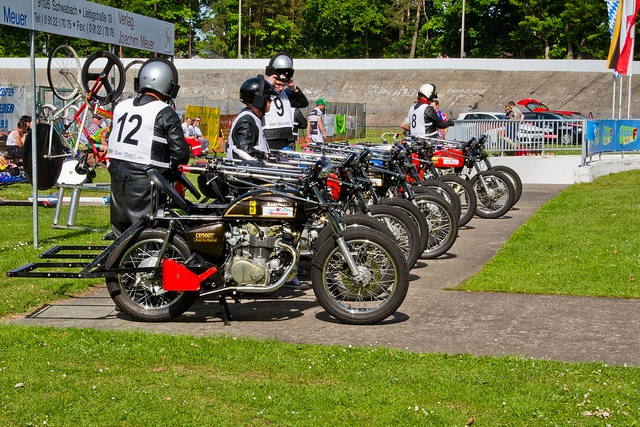non-vehicle: (101, 158, 415, 327), (321, 154, 423, 271), (370, 158, 457, 260), (351, 146, 429, 253), (370, 129, 461, 218), (404, 131, 480, 223), (437, 135, 512, 218), (328, 176, 392, 237), (475, 134, 523, 207)
